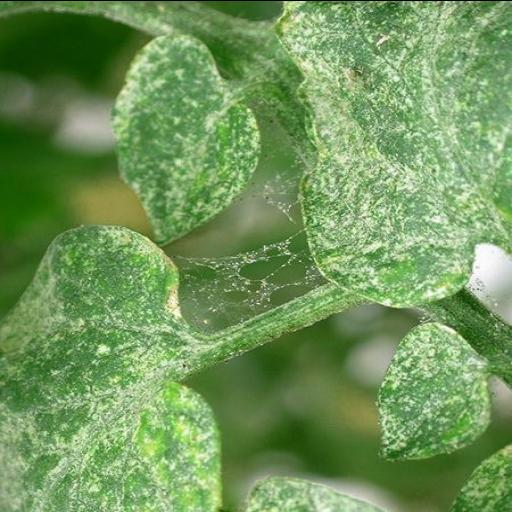disease_tomato: (269, 0, 512, 310), (0, 219, 222, 512), (106, 31, 262, 245), (374, 318, 496, 462)
